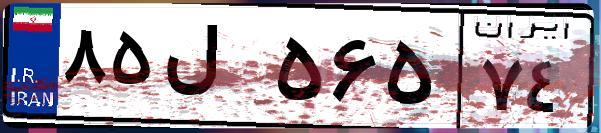4: (525, 38, 570, 115)
5: (270, 28, 330, 110), (385, 28, 445, 110), (110, 28, 158, 98)
6: (330, 28, 385, 110)
7: (475, 38, 525, 113)
8: (57, 26, 110, 100)
ل: (158, 20, 270, 120)
